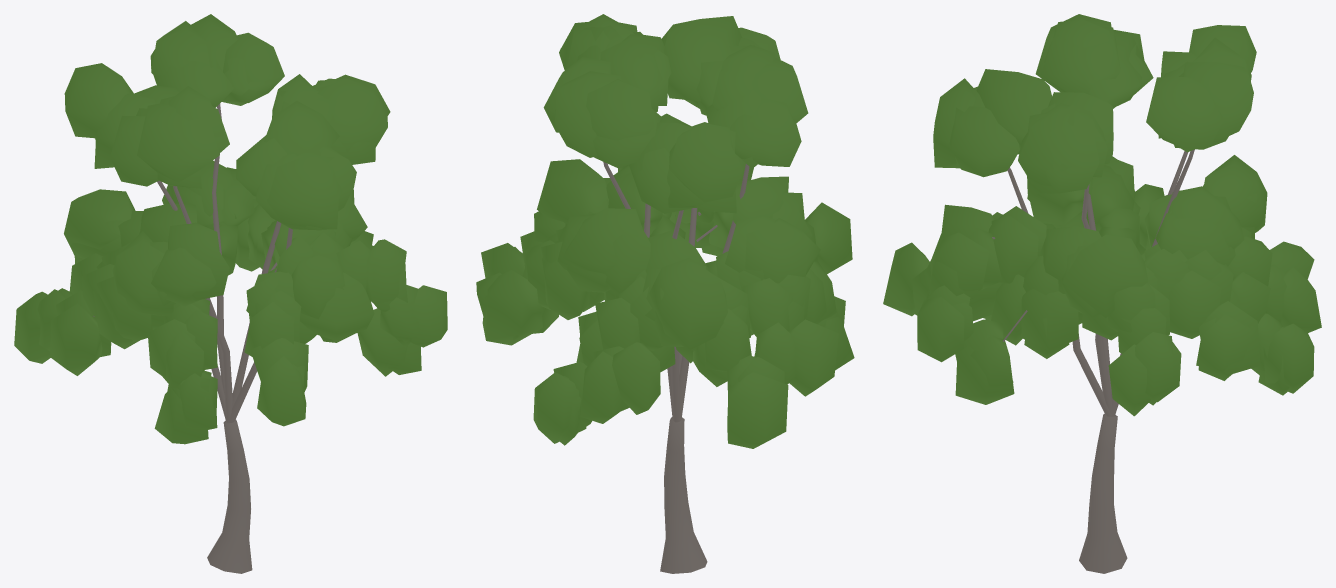
File: Blender_CedarElm_1.glb
The picture shows the model from 3 angles, left to right: view 1: azimuth 30°, elevation 25°; view 2: azimuth 150°, elevation 25°; view 3: azimuth 270°, elevation 25°; orthographic projection. The views are drawn at different scales.
Parts seen in each view (by area): view 1: Blender_CedarElm_1; view 2: Blender_CedarElm_1; view 3: Blender_CedarElm_1.
Part boxes in pixels (x1=…): Blender_CedarElm_1: x1=14, y1=14, x2=447, y2=573; Blender_CedarElm_1: x1=476, y1=14, x2=854, y2=573; Blender_CedarElm_1: x1=883, y1=14, x2=1321, y2=573.
Bounding box in the file's own units: 10.3 × 15.03 × 11.47.
